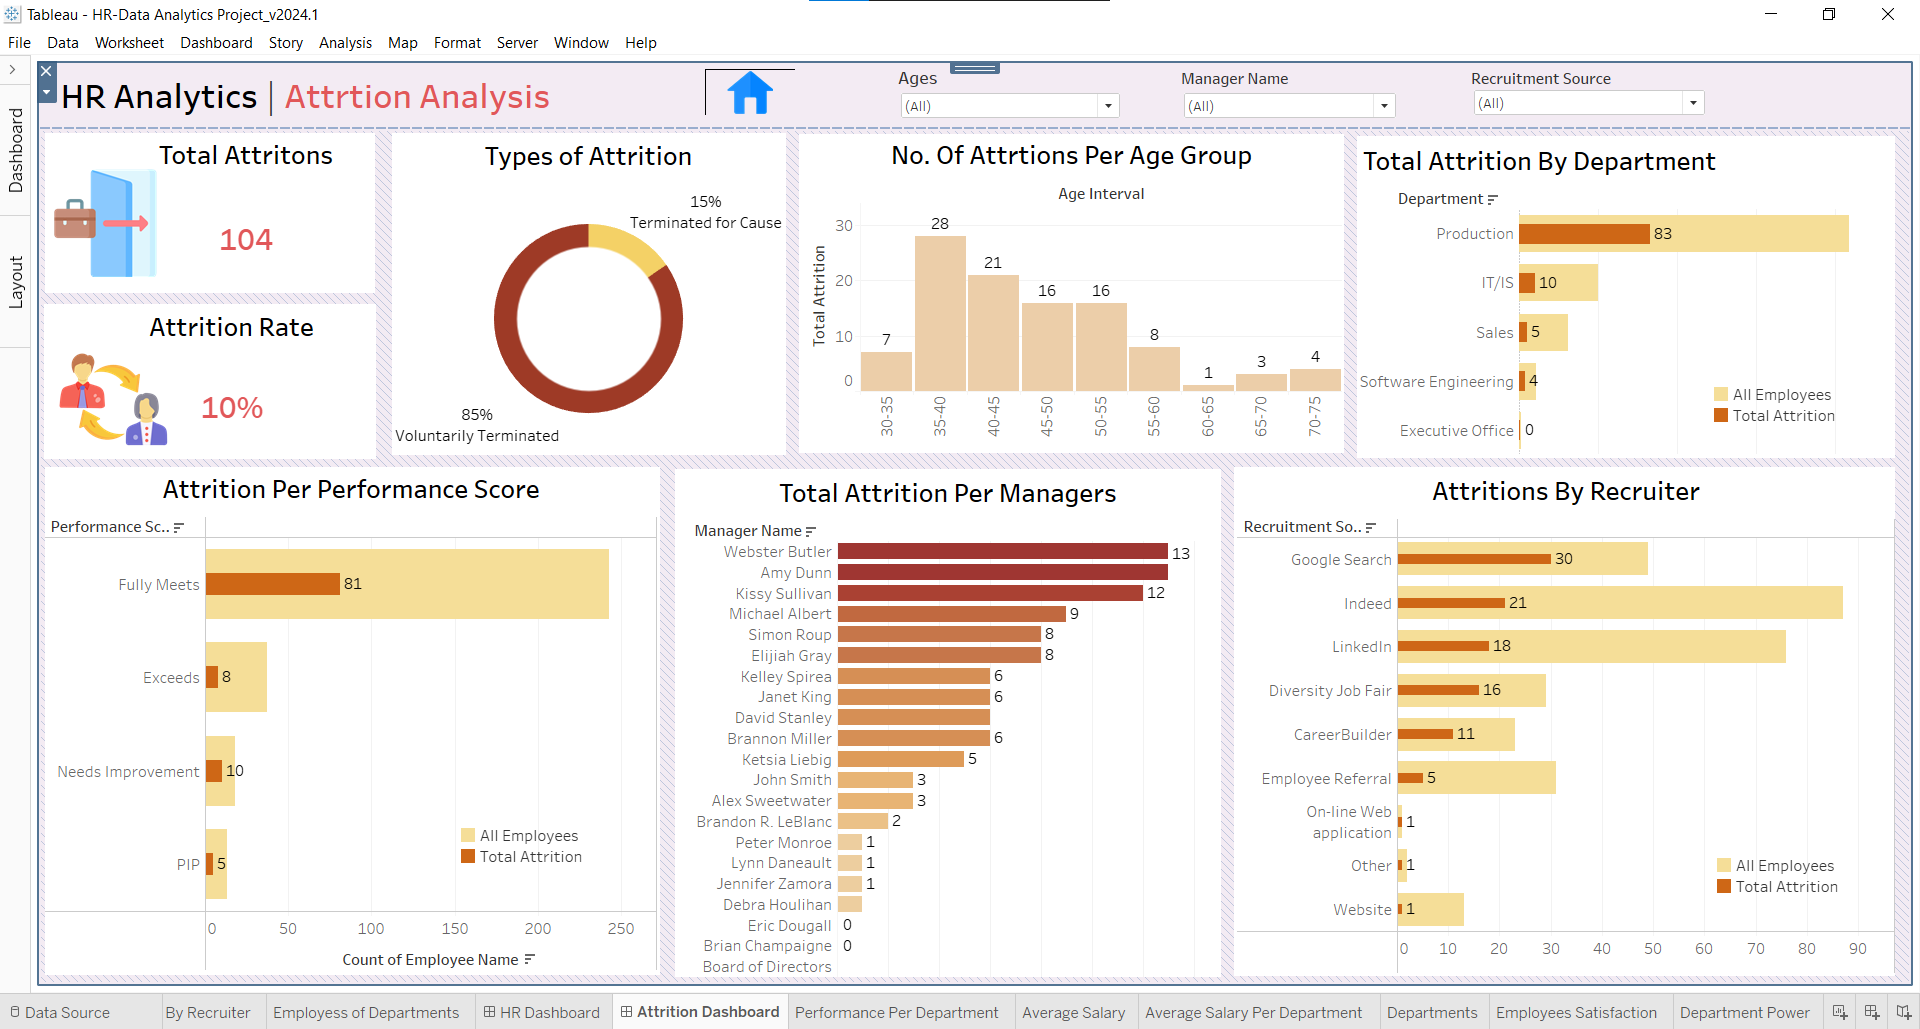

The page's visual inventory and layout, read from the dashboard file:
{"tool":"tableau","page":{"name":"Attrition Dashboard","canvas":[1000,1000],"units":"permille","ordinal":0},"visuals":[{"type":"title","box":[4.2,8.8,991.5,70.2]},{"type":"filter","title":"Attritions By Age Group","param":"[federated.09xr9or0y63uid14wfy791kt5hc7].[none:Calculation_87257279171432459:nk]","box":[459.3,10.5,118.9,68.5]},{"type":"filter","title":"Total Attrition Per Managers","param":"[federated.09xr9or0y63uid14wfy791kt5hc7].[none:ManagerName:nk]","box":[609.2,13.9,115.3,61.6]},{"type":"filter","title":"Attrion By Recruiter","param":"[federated.09xr9or0y63uid14wfy791kt5hc7].[none:RecruitmentSource:nk]","box":[762.7,13.9,125.6,51.1]},{"type":"dashboard-object","box":[357.1,15.1,47.4,48.8]},{"type":"blank","box":[7.5,83.6,174.6,170.7]},{"type":"worksheet","title":"tot attrition","mark":"Automatic","box":[48.6,83.6,130.3,170.7]},{"type":"blank","box":[191.2,83.6,208.7,343.8]},{"type":"worksheet","title":"Attritions By Age Group","mark":"Bar","rows":["Calculation_87257279043604481"],"cols":["Calculation_87257279171432459"],"box":[407.8,83.6,286.6,339.1]},{"type":"worksheet","title":"Types of attrition","mark":"Pie","rows":["Calculation_87257279159963656","Calculation_87257279161008138"],"box":[192.3,84.8,206,340.3]},{"type":"blank","box":[406.8,84.8,288.7,340.3]},{"type":"blank","box":[702.3,86,285,343.8]},{"type":"worksheet","title":"Total Attrition By Department","mark":"Bar","rows":["Department"],"cols":["Employee_Name","Calculation_87257279043604481"],"box":[703.4,89.4,282.3,336.8]},{"type":"image","param":"Image/resign.png","box":[10.6,122,57.4,127.8]},{"type":"blank","box":[6.9,266,175.8,164.9]},{"type":"worksheet","title":"tot attrition rate","mark":"Automatic","box":[32.4,267.1,147.8,162.6]},{"type":"image","param":"Image/turnover.png","box":[7.9,299.7,71,134.7]},{"type":"legend","title":"Total Attrition By Department","param":"[federated.09xr9or0y63uid14wfy791kt5hc7].[:Measure Names]","box":[890,350.8,92.2,74.3]},{"type":"blank","box":[7.2,440.2,326.1,542.4]},{"type":"worksheet","title":"Attrition Per Performance Score","mark":"Bar","rows":["PerformanceScore"],"cols":["Employee_Name","Calculation_87257279043604481"],"box":[7.4,440.2,324.2,537.8]},{"type":"blank","box":[637,440.2,350.5,543.5]},{"type":"blank","box":[341.2,441.4,289.2,542.4]},{"type":"worksheet","title":"Attrion By Recruiter","mark":"Bar","rows":["RecruitmentSource"],"cols":["Employee_Name","Calculation_87257279043604481"],"box":[638.8,441.4,348.5,538.9]},{"type":"worksheet","title":"Total Attrition Per Managers","mark":"Automatic","rows":["ManagerName"],"cols":["Calculation_87257279043604481"],"box":[341.9,443.7,287.2,540.1]},{"type":"legend","title":"Attrition Per Performance Score","param":"[federated.09xr9or0y63uid14wfy791kt5hc7].[:Measure Names]","box":[226,822.3,99.5,72]},{"type":"legend","title":"Attrion By Recruiter","param":"[federated.09xr9or0y63uid14wfy791kt5hc7].[:Measure Names]","box":[891.3,853.7,92.2,74.3]}]}

Visuals, with their boxes on the dashboard's canvas, which has no fixed pixel size, in thousandths of its width and height (x1, y1, x2, y2). These are canvas units, not pixel positions in the 1920x1029 screenshot, which may show the page scaled, cropped or inside an application window:
title: (4, 9, 996, 79)
"Attritions By Age Group" filter: (459, 10, 578, 79)
"Total Attrition Per Managers" filter: (609, 14, 724, 76)
"Attrion By Recruiter" filter: (763, 14, 888, 65)
dashboard-object: (357, 15, 404, 64)
blank: (8, 84, 182, 254)
"tot attrition" worksheet: (49, 84, 179, 254)
blank: (191, 84, 400, 427)
"Attritions By Age Group" worksheet (Bar marks): (408, 84, 694, 423)
"Types of attrition" worksheet (Pie marks): (192, 85, 398, 425)
blank: (407, 85, 696, 425)
blank: (702, 86, 987, 430)
"Total Attrition By Department" worksheet (Bar marks): (703, 89, 986, 426)
image: (11, 122, 68, 250)
blank: (7, 266, 183, 431)
"tot attrition rate" worksheet: (32, 267, 180, 430)
image: (8, 300, 79, 434)
"Total Attrition By Department" legend: (890, 351, 982, 425)
blank: (7, 440, 333, 983)
"Attrition Per Performance Score" worksheet (Bar marks): (7, 440, 332, 978)
blank: (637, 440, 988, 984)
blank: (341, 441, 630, 984)
"Attrion By Recruiter" worksheet (Bar marks): (639, 441, 987, 980)
"Total Attrition Per Managers" worksheet: (342, 444, 629, 984)
"Attrition Per Performance Score" legend: (226, 822, 326, 894)
"Attrion By Recruiter" legend: (891, 854, 984, 928)
